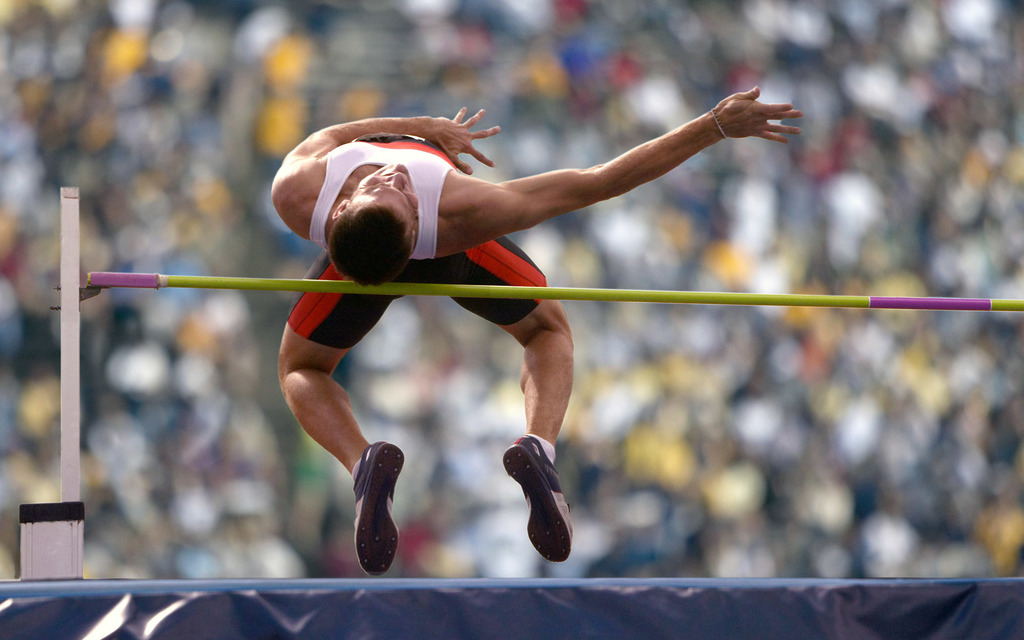Person: (272, 85, 801, 576)
